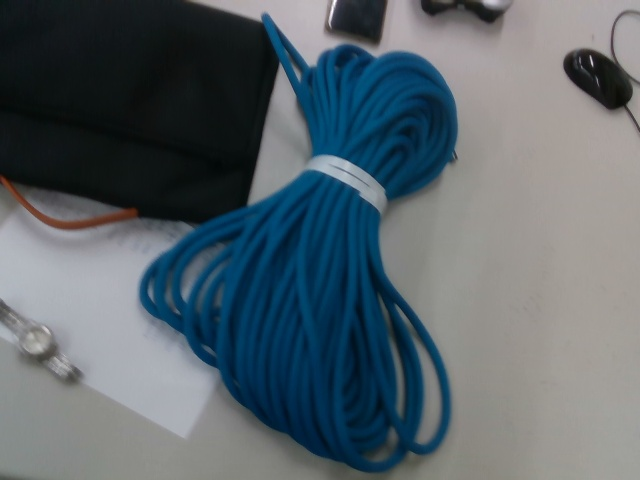rope: (134, 8, 460, 474)
